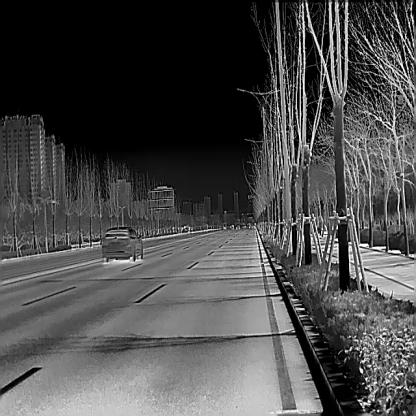car: (102, 225, 142, 262), (235, 224, 239, 228)
